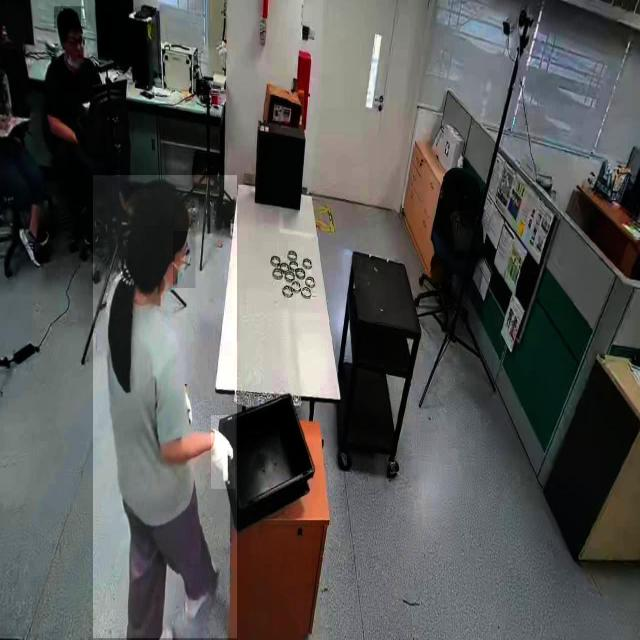face_mask: (173, 231, 195, 288)
hand_glove: (211, 415, 236, 490)
head_nohelmet: (132, 178, 189, 228), (54, 7, 82, 30)
person: (93, 175, 237, 639), (44, 12, 112, 270)
